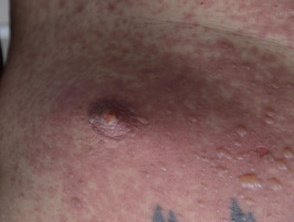SJS-TEN: (7, 34, 294, 222)
